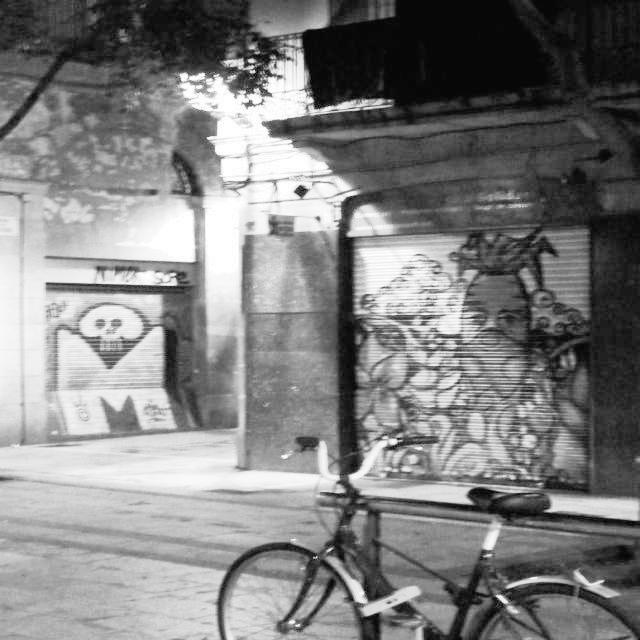Bicycle: (200, 428, 640, 640)
